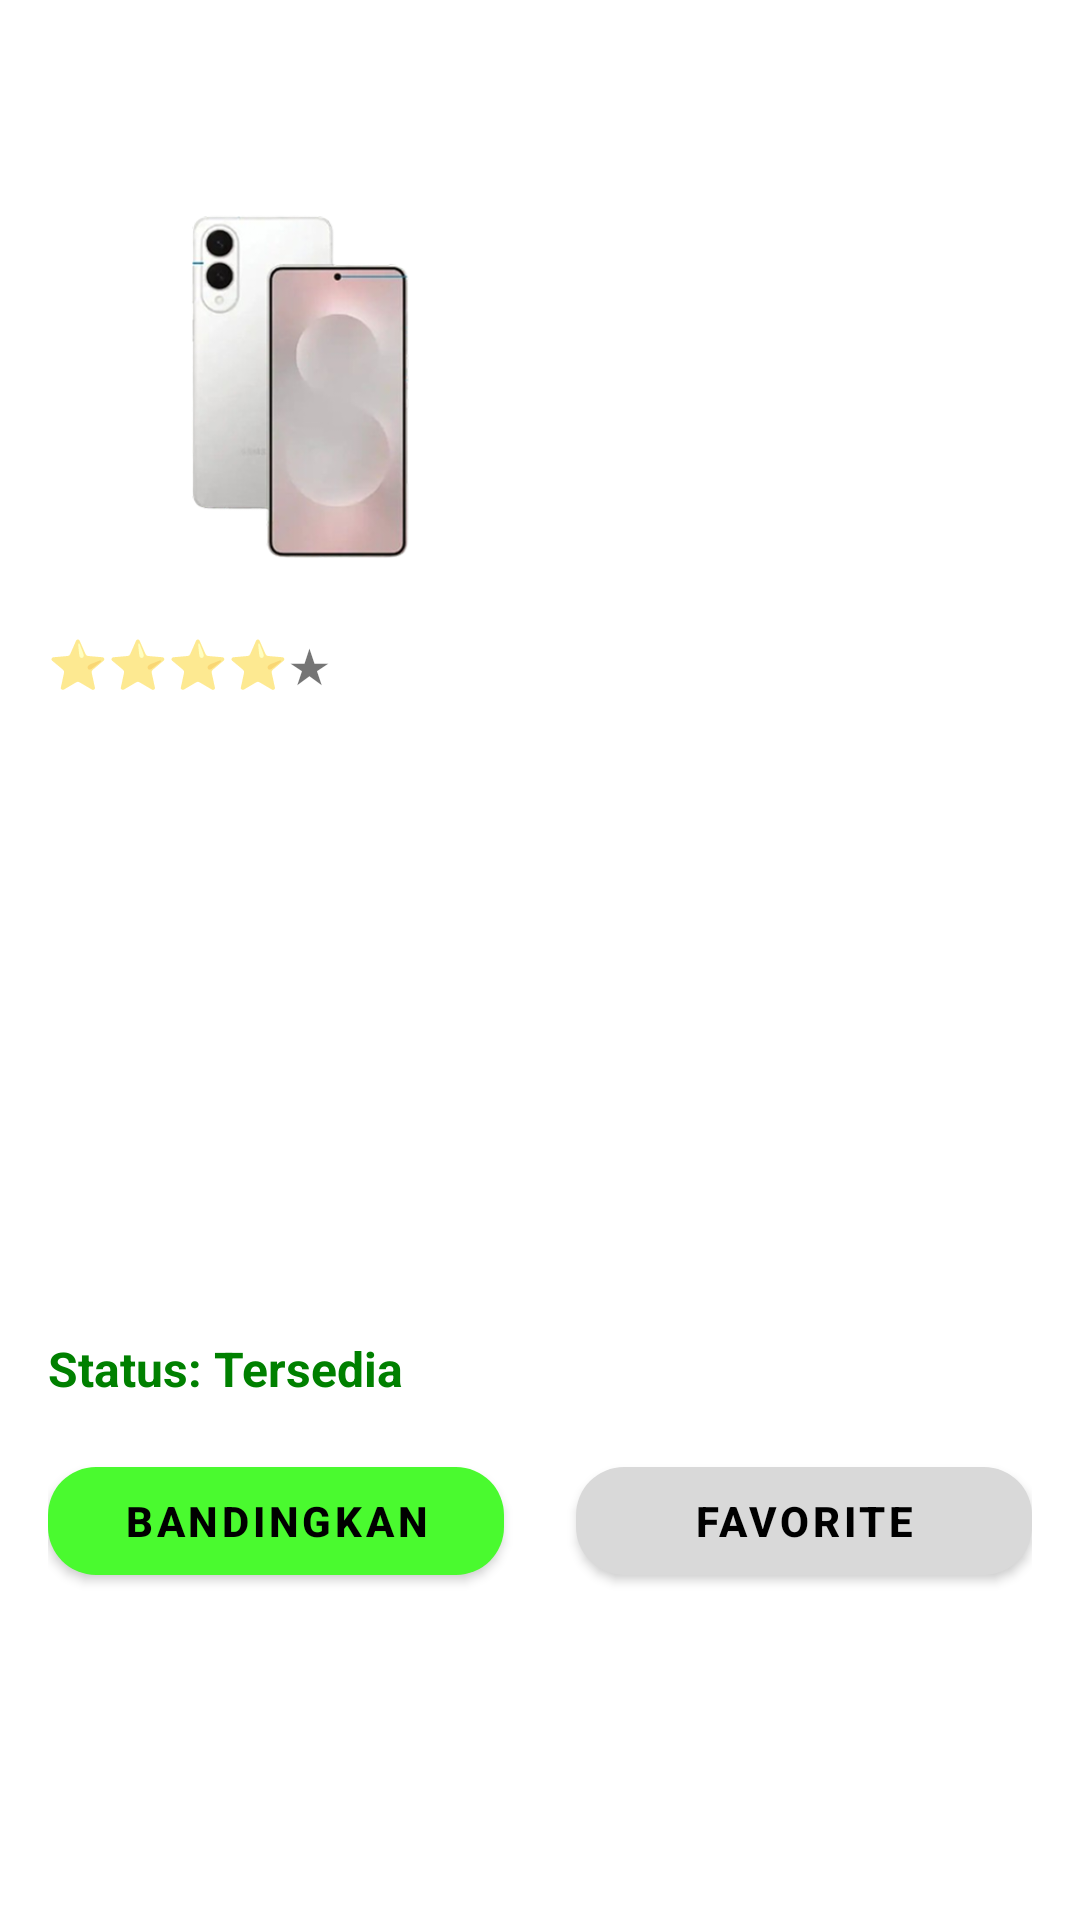

Locate icon controls on the screen. Image size 1080w x 1920h, boxes as (x1, y1, x2, y2).
samsung: (192, 217, 408, 558)
